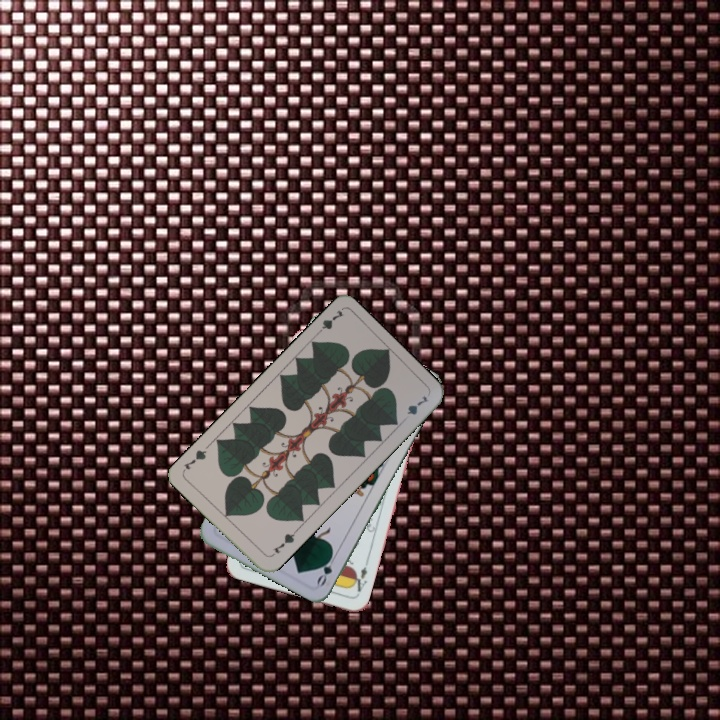EA: (347, 563, 370, 598)
G7: (311, 306, 347, 339), (267, 527, 299, 559)
GO: (313, 548, 339, 588)
